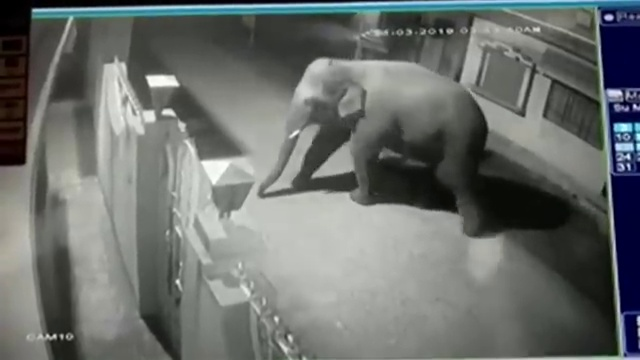Elephant: (257, 57, 492, 239)
